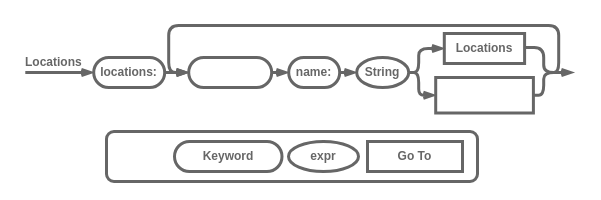
Image size: 601x200. Some labels were removed from this diagram. Here are the shapes that lost their labels. From the top down, the box of each, then its label:
(187, 56, 273, 88): location-key:
(434, 76, 534, 114): Data Requirements
(104, 130, 478, 182): Legend
